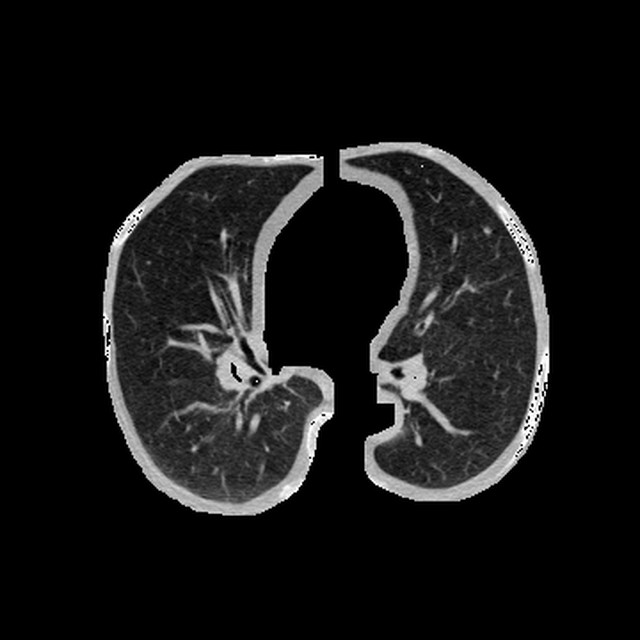PN: (484, 228, 491, 235)
